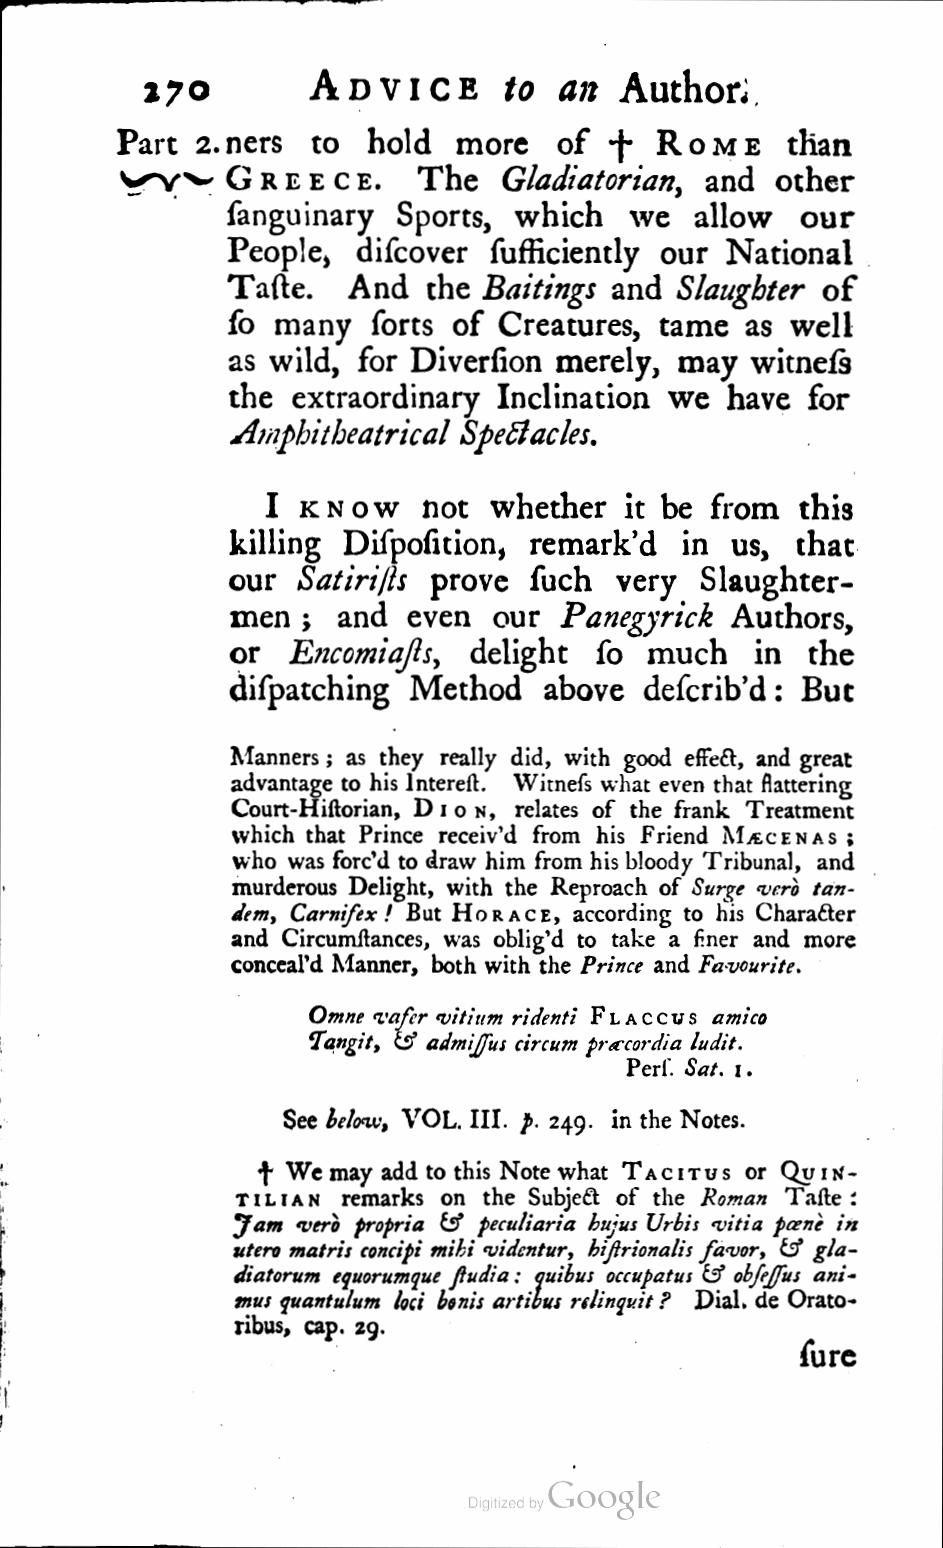bottom_p: (224, 125, 862, 458)
catchword: (795, 1336, 866, 1371)
footnotes: (224, 740, 862, 982), (226, 1154, 866, 1345), (301, 1002, 775, 1082), (277, 1102, 754, 1142)
header: (307, 65, 753, 109)
page_num: (140, 76, 214, 112)
print_marg: (111, 124, 221, 198)
top_p: (222, 489, 862, 713)
